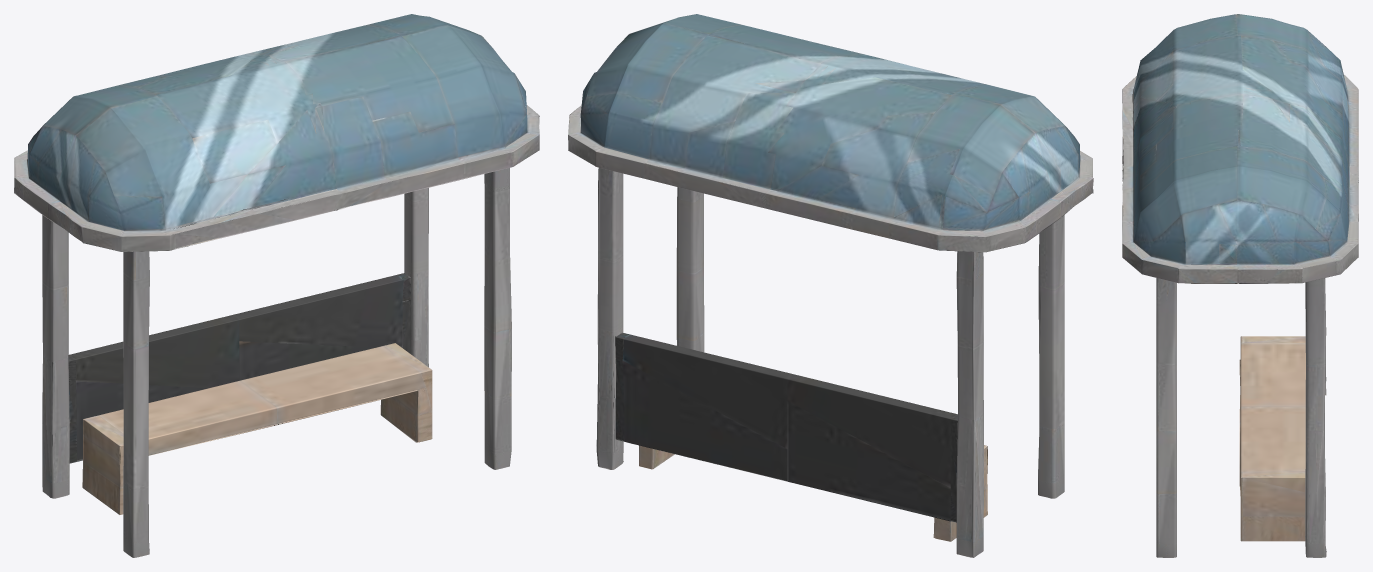
Rendered from 37-bus-stop-shelter.glb.
The picture shows the model from 3 angles, left to right: view 1: azimuth 30°, elevation 25°; view 2: azimuth 150°, elevation 25°; view 3: azimuth 270°, elevation 25°; orthographic projection. The views are drawn at different scales.
Visible parts, largest first — view 1: geometry_0; view 2: geometry_0; view 3: geometry_0.
Part boxes in pixels (left/top/right/bottom): geometry_0: left=14, top=14, right=539, bottom=557; geometry_0: left=568, top=14, right=1093, bottom=557; geometry_0: left=1122, top=14, right=1358, bottom=557.
Size of the model in its own units: 0.9575 by 0.8232 by 0.46.
1 material, 1 textured.
